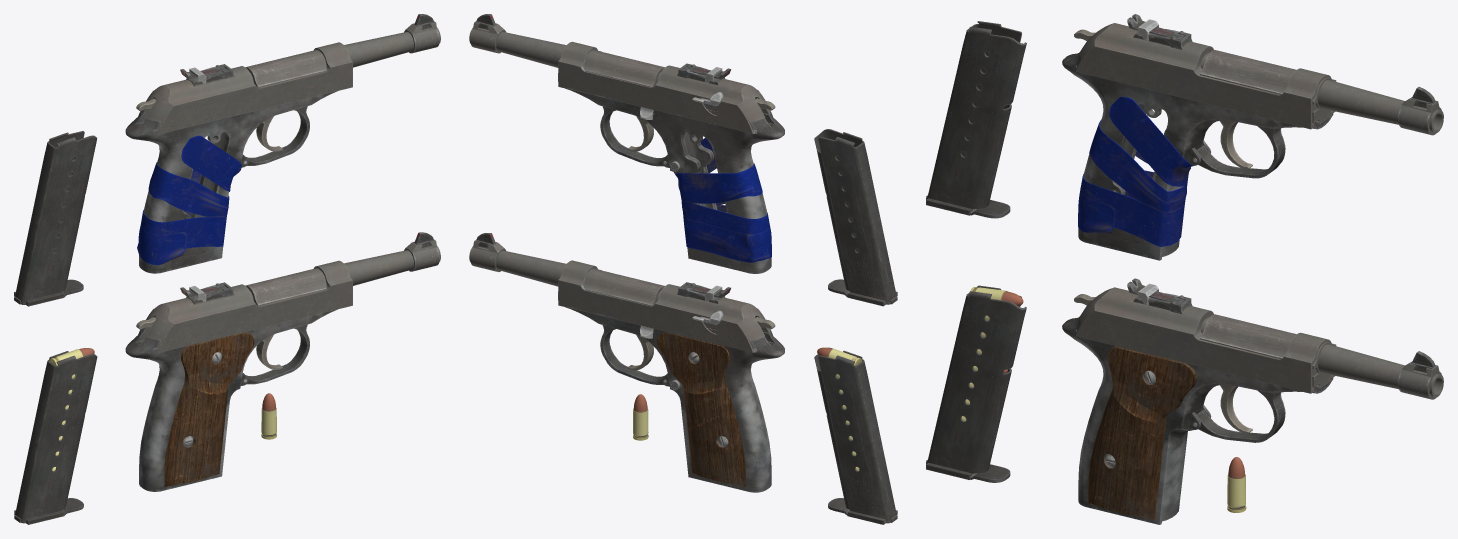
The model's file is service_pistol.glb.
The picture shows the model from 3 angles, left to right: view 1: azimuth 30°, elevation 25°; view 2: azimuth 150°, elevation 25°; view 3: azimuth 330°, elevation 25°; orthographic projection. The views are drawn at different scales.
Visible parts, largest first — view 1: service_pistol_pistol_b, service_pistol_pistol_a, service_pistol_magazine_loaded, service_pistol_magazine_empty, service_pistol_slide_a, service_pistol_slide_b, service_pistol_bullet; view 2: service_pistol_pistol_b, service_pistol_pistol_a, service_pistol_magazine_loaded, service_pistol_magazine_empty, service_pistol_slide_a, service_pistol_slide_b, service_pistol_bullet; view 3: service_pistol_pistol_a, service_pistol_pistol_b, service_pistol_magazine_loaded, service_pistol_magazine_empty, service_pistol_slide_b, service_pistol_slide_a, service_pistol_bullet, service_pistol_trigger_b, service_pistol_trigger_a.
Part boxes in pixels (x1=…): service_pistol_pistol_b: x1=125, y1=14, x2=440, y2=273; service_pistol_pistol_a: x1=125, y1=232, x2=440, y2=491; service_pistol_magazine_loaded: x1=14, y1=348, x2=97, y2=524; service_pistol_magazine_empty: x1=14, y1=131, x2=97, y2=306; service_pistol_slide_a: x1=141, y1=260, x2=352, y2=352; service_pistol_slide_b: x1=141, y1=42, x2=352, y2=134; service_pistol_bullet: x1=261, y1=393, x2=276, y2=439; service_pistol_pistol_b: x1=469, y1=14, x2=784, y2=273; service_pistol_pistol_a: x1=469, y1=233, x2=784, y2=492; service_pistol_magazine_loaded: x1=814, y1=347, x2=897, y2=524; service_pistol_magazine_empty: x1=814, y1=129, x2=897, y2=306; service_pistol_slide_a: x1=558, y1=260, x2=772, y2=352; service_pistol_slide_b: x1=558, y1=41, x2=772, y2=133; service_pistol_bullet: x1=633, y1=394, x2=648, y2=440; service_pistol_pistol_a: x1=1062, y1=314, x2=1443, y2=524; service_pistol_pistol_b: x1=1062, y1=50, x2=1443, y2=260; service_pistol_magazine_loaded: x1=926, y1=285, x2=1026, y2=482; service_pistol_magazine_empty: x1=926, y1=21, x2=1026, y2=218; service_pistol_slide_b: x1=1075, y1=14, x2=1336, y2=129; service_pistol_slide_a: x1=1075, y1=278, x2=1336, y2=393; service_pistol_bullet: x1=1227, y1=457, x2=1246, y2=512; service_pistol_trigger_b: x1=1220, y1=120, x2=1252, y2=169; service_pistol_trigger_a: x1=1220, y1=384, x2=1252, y2=433.
Bounding box in the file's own units: 0.3016 × 0.2807 × 0.0318.
Materials: 1 (1 with a texture image).
